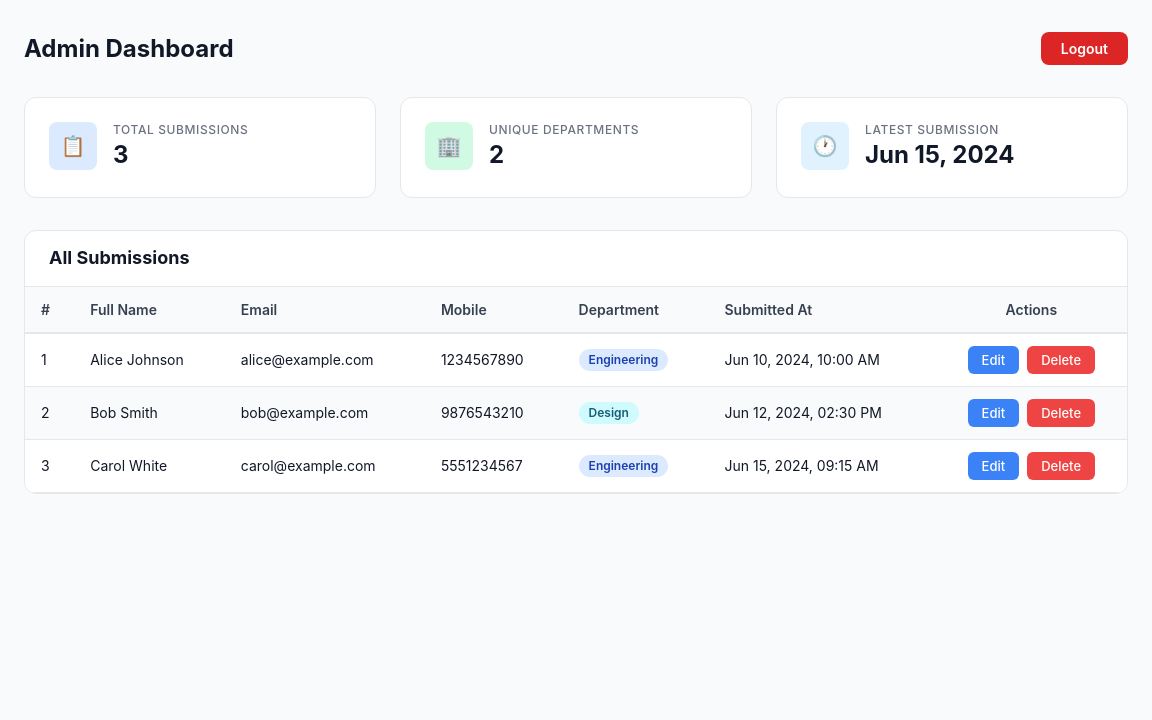
Test: AdminDashboard › edit modal › opens edit modal with pre-filled data when edit button is clicked
This screenshot has width=1152, height=720.
Click the button with aria-label "Edit submission for Alice Johnson": (993, 360) 968,346 -> 1019,374
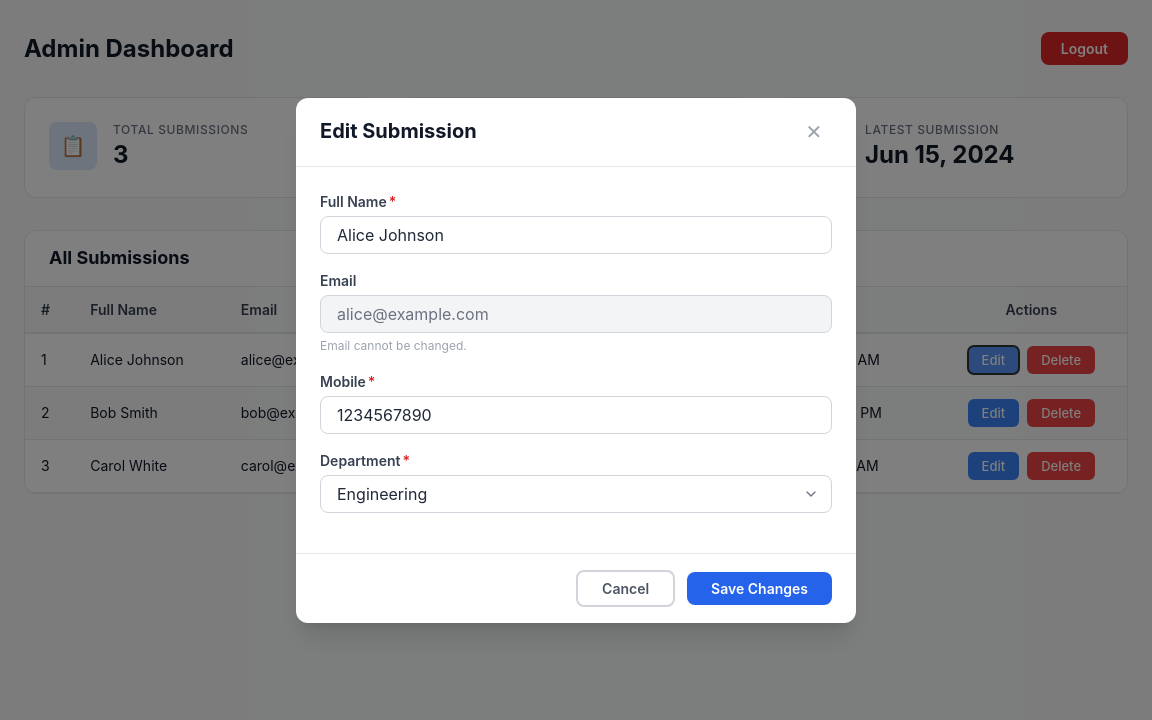
Expected: the heading "Edit Submission" is shown, 320,119 -> 477,144
Expected: the field labelled "Full Name*" holds "Alice Johnson", 320,216 -> 832,254
Expected: the field labelled "Email" holds "alice@example.com", 320,294 -> 832,332
